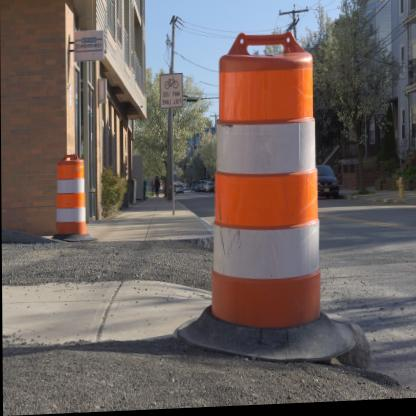obstacle: (205, 38, 326, 339), (56, 153, 88, 240)
